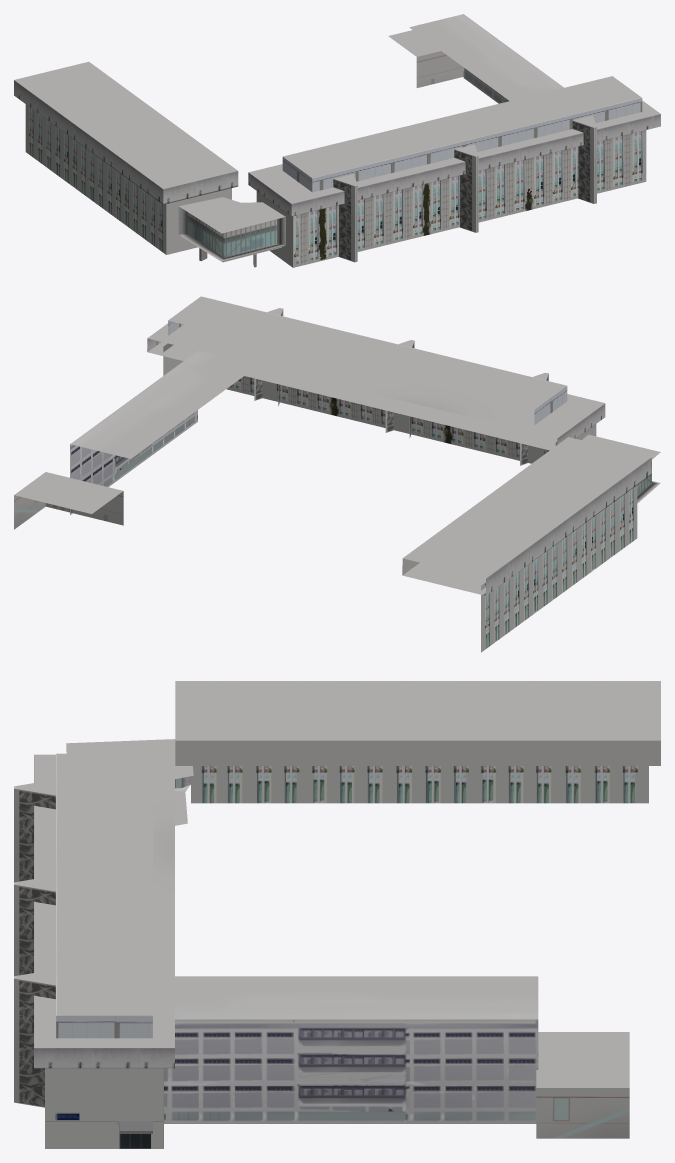
The model's file is Bio_Science_Bldg.obj.
The picture shows the model from 3 angles, top to bottom: view 1: azimuth 30°, elevation 25°; view 2: azimuth 150°, elevation 25°; view 3: azimuth 270°, elevation 25°; orthographic projection. The views are drawn at different scales.
Visible parts, largest first — view 1: Bio_Science_Bldg_11_Mesh.001, Bio_Science_Bldg_7_Mesh.001, Bio_Science_Bldg_13_Mesh.001, Bio_Science_Bldg_3_Mesh.001, Bio_Science_Bldg_12_Mesh.001, Bio_Science_Bldg_4_Mesh.001, Bio_Science_Bldg_1_Mesh.001, Bio_Science_Bldg_5_Mesh.001, Bio_Science_Bldg_10_Mesh.001, Bio_Science_Bldg_15_Mesh.001, Bio_Science_Bldg_16_Mesh.001; view 2: Bio_Science_Bldg_7_Mesh.001, Bio_Science_Bldg_12_Mesh.001, Bio_Science_Bldg_13_Mesh.001, Bio_Science_Bldg_4_Mesh.001, Bio_Science_Bldg_3_Mesh.001, Bio_Science_Bldg_11_Mesh.001, Bio_Science_Bldg_5_Mesh.001, Bio_Science_Bldg_1_Mesh.001; view 3: Bio_Science_Bldg_4_Mesh.001, Bio_Science_Bldg_7_Mesh.001, Bio_Science_Bldg_13_Mesh.001, Bio_Science_Bldg_3_Mesh.001, Bio_Science_Bldg_12_Mesh.001, Bio_Science_Bldg_5_Mesh.001, Bio_Science_Bldg_11_Mesh.001, Bio_Science_Bldg_16_Mesh.001, Bio_Science_Bldg_10_Mesh.001, Bio_Science_Bldg_15_Mesh.001, Bio_Science_Bldg_1_Mesh.001.
Part boxes in pixels (box(x1,y1,x2,y2)): Bio_Science_Bldg_11_Mesh.001: box(256, 130, 646, 267); Bio_Science_Bldg_7_Mesh.001: box(14, 61, 238, 204); Bio_Science_Bldg_13_Mesh.001: box(282, 76, 642, 192); Bio_Science_Bldg_3_Mesh.001: box(25, 104, 231, 254); Bio_Science_Bldg_12_Mesh.001: box(248, 100, 660, 216); Bio_Science_Bldg_4_Mesh.001: box(409, 14, 563, 103); Bio_Science_Bldg_1_Mesh.001: box(178, 197, 285, 262); Bio_Science_Bldg_5_Mesh.001: box(388, 30, 464, 87); Bio_Science_Bldg_10_Mesh.001: box(333, 174, 357, 262); Bio_Science_Bldg_15_Mesh.001: box(454, 144, 478, 232); Bio_Science_Bldg_16_Mesh.001: box(572, 115, 596, 203); Bio_Science_Bldg_7_Mesh.001: box(402, 437, 651, 595); Bio_Science_Bldg_12_Mesh.001: box(147, 323, 605, 450); Bio_Science_Bldg_13_Mesh.001: box(168, 296, 567, 424); Bio_Science_Bldg_4_Mesh.001: box(70, 351, 257, 514); Bio_Science_Bldg_3_Mesh.001: box(481, 485, 637, 652); Bio_Science_Bldg_11_Mesh.001: box(163, 343, 596, 463); Bio_Science_Bldg_5_Mesh.001: box(14, 472, 123, 529); Bio_Science_Bldg_1_Mesh.001: box(582, 434, 660, 503); Bio_Science_Bldg_4_Mesh.001: box(164, 976, 538, 1123); Bio_Science_Bldg_7_Mesh.001: box(175, 681, 660, 765); Bio_Science_Bldg_13_Mesh.001: box(56, 753, 152, 1038); Bio_Science_Bldg_3_Mesh.001: box(191, 766, 648, 803); Bio_Science_Bldg_12_Mesh.001: box(34, 754, 174, 1068); Bio_Science_Bldg_5_Mesh.001: box(536, 1032, 629, 1138); Bio_Science_Bldg_11_Mesh.001: box(45, 1068, 163, 1148); Bio_Science_Bldg_16_Mesh.001: box(14, 969, 55, 1107); Bio_Science_Bldg_10_Mesh.001: box(14, 779, 55, 882); Bio_Science_Bldg_15_Mesh.001: box(14, 875, 55, 976); Bio_Science_Bldg_1_Mesh.001: box(66, 739, 193, 825).
Bounding box in the file's own units: 0.0768 × 0.0132 × 0.058.
